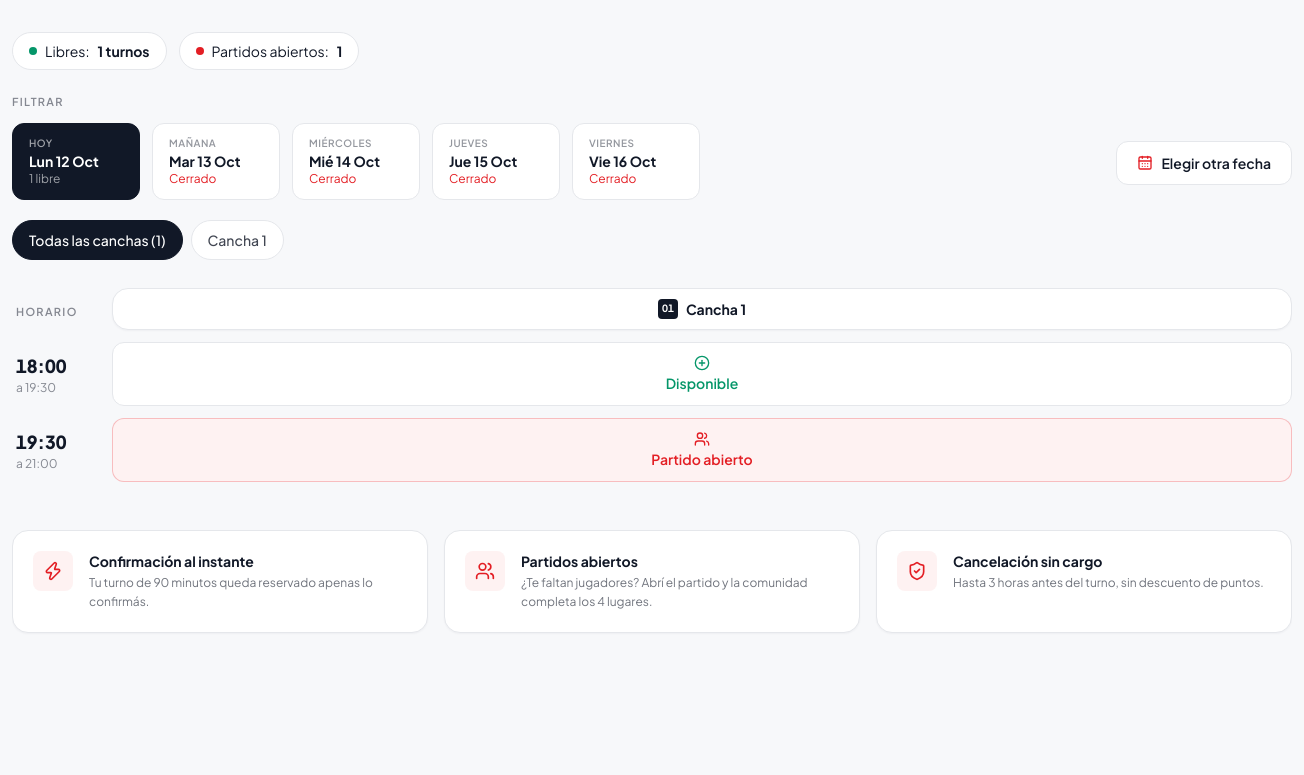
Scenario: BookingsBoard › el resumen se cierra al volver a hacer click en el turno elegido
The width and height of the screenshot is (1304, 775).
Click the button with aria-label "Cancha 1, 18:00, disponible" at (702, 374), box top-left (112, 342), bottom-right (1292, 406)
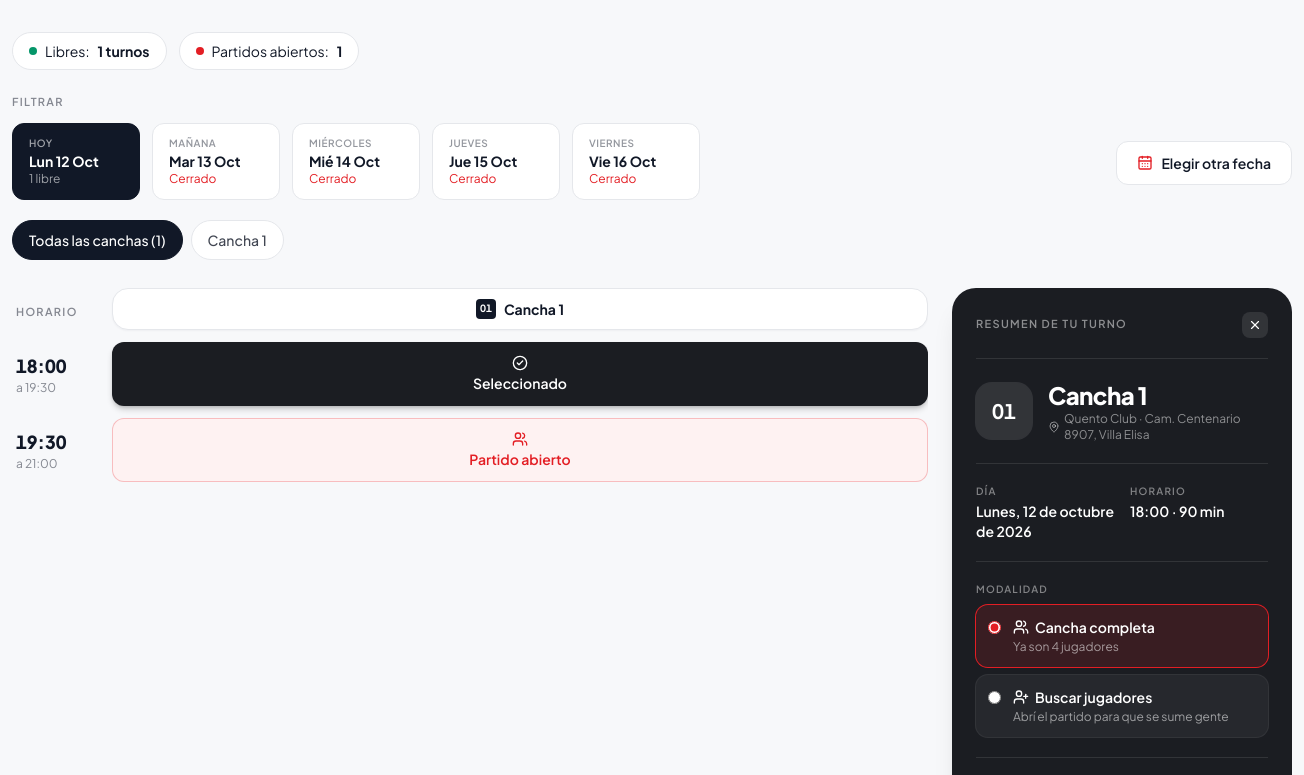
Click the button with aria-label "Cancha 1, 18:00, seleccionado" at (520, 374), box top-left (112, 342), bottom-right (928, 406)
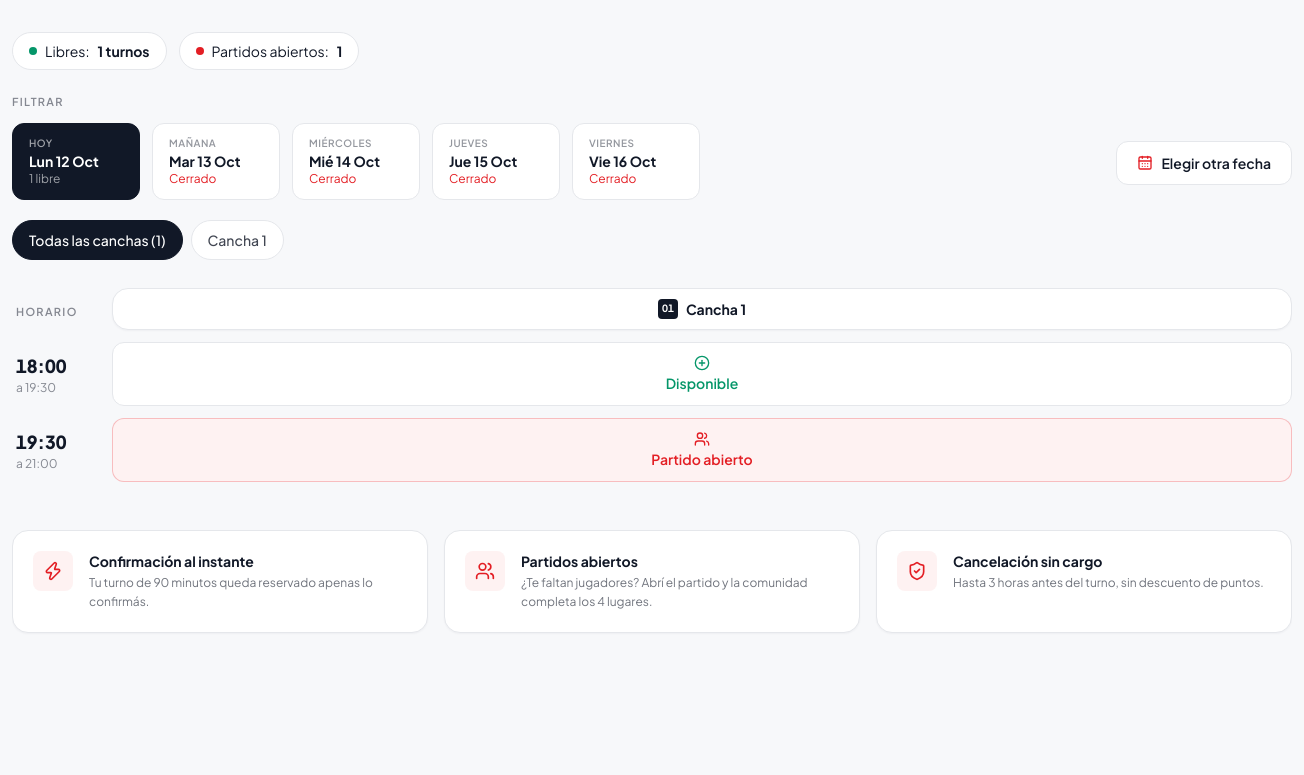
Expected: the text "Resumen de tu turno" is gone
Expected: the button with aria-label "Cancha 1, 18:00, disponible" is shown, top-left (112, 342), bottom-right (1292, 406)
